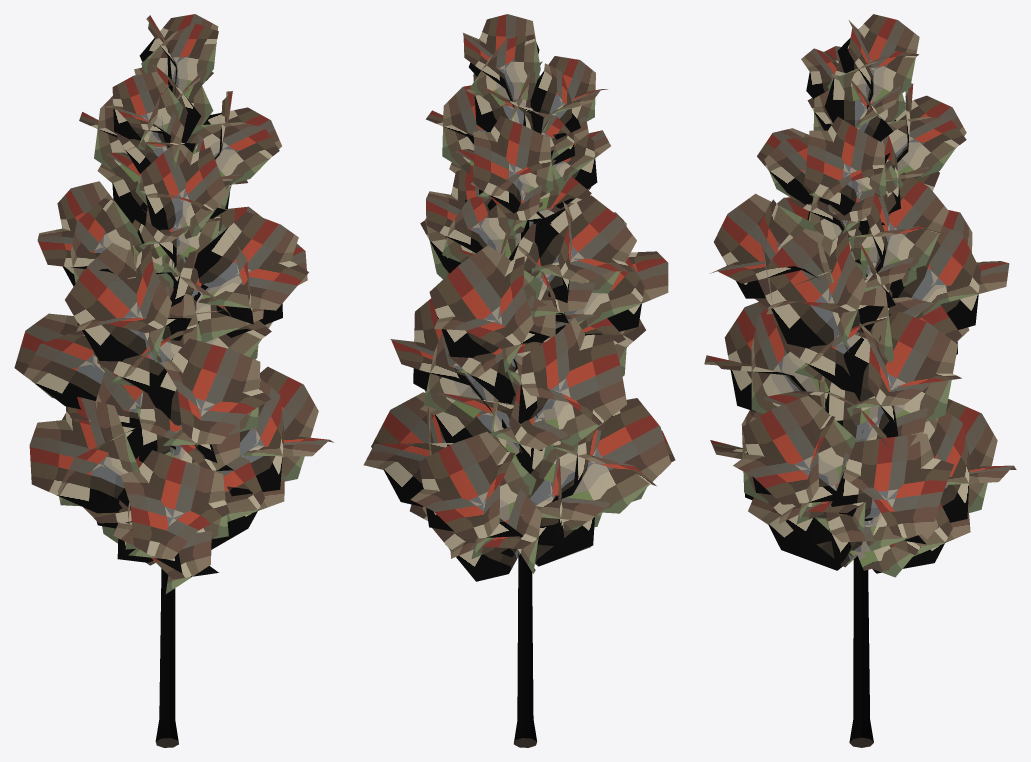
File: SM_Tree_Birch_03_LOD_01.fbx
3 renders of one model, left to right at view 1: azimuth 30°, elevation 25°; view 2: azimuth 150°, elevation 25°; view 3: azimuth 270°, elevation 25°, orthographic.
Visible parts, largest first — view 1: SM_Tree_Birch_03_LOD_01; view 2: SM_Tree_Birch_03_LOD_01; view 3: SM_Tree_Birch_03_LOD_01.
Part boxes in pixels (<box>): SM_Tree_Birch_03_LOD_01: <box>14,14,333,747</box>; SM_Tree_Birch_03_LOD_01: <box>363,14,675,747</box>; SM_Tree_Birch_03_LOD_01: <box>704,14,1016,747</box>.
Bounding box in the file's own units: 214 × 540 × 211.
